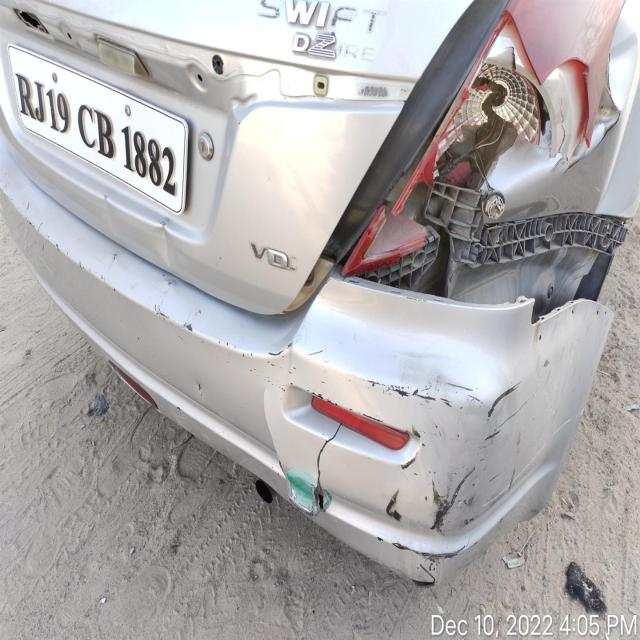damage: (351, 12, 629, 324), (262, 338, 524, 587), (0, 0, 416, 122), (549, 18, 638, 176), (311, 422, 342, 517), (159, 218, 178, 275)
